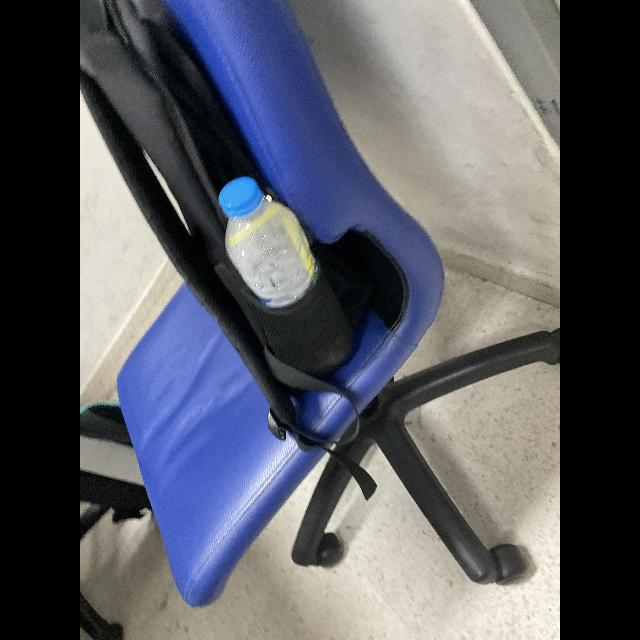plastic_bottle: (217, 172, 326, 312)
plastic_bottle_cap: (217, 174, 263, 216)
straw: (230, 198, 312, 278)
